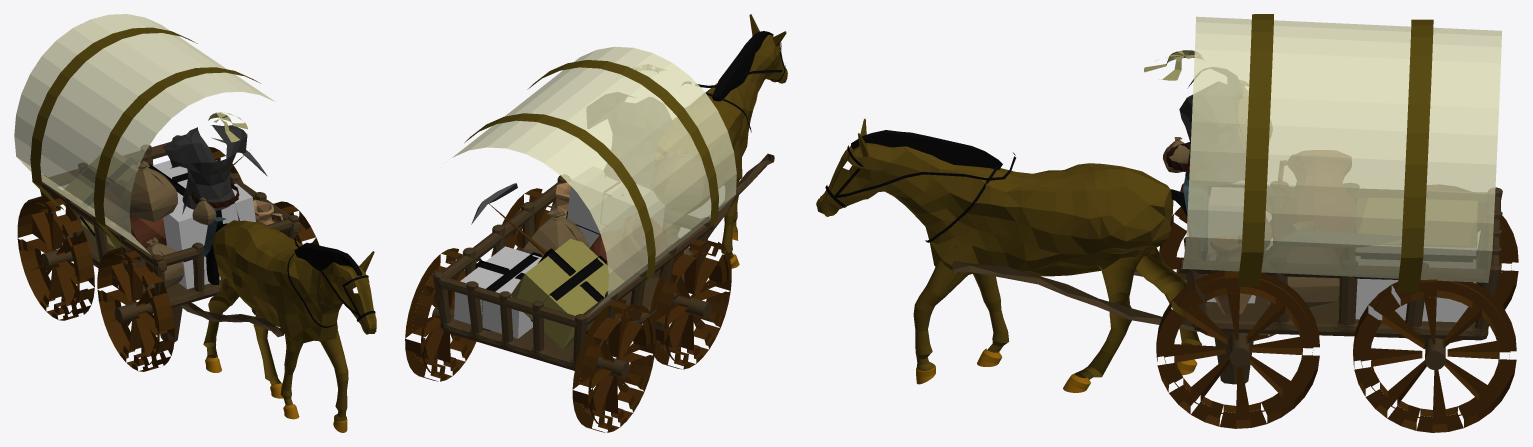
The model's file is Settlers.glb.
The picture shows the model from 3 angles, left to right: view 1: azimuth 30°, elevation 25°; view 2: azimuth 150°, elevation 25°; view 3: azimuth 270°, elevation 25°; orthographic projection. The views are drawn at different scales.
Visible parts, largest first — view 1: Cylinder, horse_body, Cube, wheel, Circle_004, jacket, Cube_004, Cylinder_002, Cylinder_003, Plane_009, Plane, Cube_002 (+16 smaller); view 2: Cylinder, Cube, wheel, horse_body, Circle_004, Cube_002, jacket, Circle_002, Cube_004, Cube_001, Cylinder_002, Cylinder_003 (+14 smaller); view 3: Cylinder, horse_body, Cube, Circle_002, Circle_001, Cylinder_003, Cylinder_002, jacket, Plane, Cube_002, Cube_001, left_rear_leg (+12 smaller).
Boxes of the visible parts, x1,y1,x2,y2 form: Cylinder: [14, 14, 275, 254]; horse_body: [212, 220, 376, 343]; Cube: [40, 135, 301, 342]; wheel: [17, 194, 94, 320]; Circle_004: [97, 247, 174, 371]; jacket: [162, 125, 247, 210]; Cube_004: [163, 183, 255, 289]; Cylinder_002: [93, 67, 260, 249]; Cylinder_003: [30, 27, 197, 209]; Plane_009: [121, 160, 177, 222]; Plane: [104, 180, 166, 248]; Cube_002: [63, 151, 138, 248]; Cylinder: [452, 46, 736, 317]; Cube: [432, 175, 713, 370]; wheel: [572, 299, 655, 432]; horse_body: [656, 14, 787, 213]; Circle_004: [649, 238, 731, 369]; Cube_002: [511, 239, 623, 349]; jacket: [587, 92, 671, 183]; Circle_002: [405, 248, 481, 381]; Cube_004: [567, 166, 664, 247]; Cube_001: [454, 246, 541, 338]; Cylinder_002: [527, 60, 718, 246]; Cylinder_003: [464, 113, 655, 298]; Cylinder: [1182, 16, 1501, 282]; horse_body: [816, 118, 1173, 276]; Cube: [1178, 181, 1502, 384]; Circle_002: [1353, 274, 1516, 432]; Circle_001: [1156, 270, 1319, 428]; Cylinder_003: [1397, 19, 1433, 292]; Cylinder_002: [1237, 14, 1273, 286]; jacket: [1179, 67, 1245, 185]; Plane: [1277, 150, 1356, 260]; Cube_002: [1356, 198, 1477, 247]; Cube_001: [1355, 245, 1475, 322]; left_rear_leg: [1075, 246, 1149, 379].
Size of the model in its own units: 1.45 by 1.85 by 3.31.
